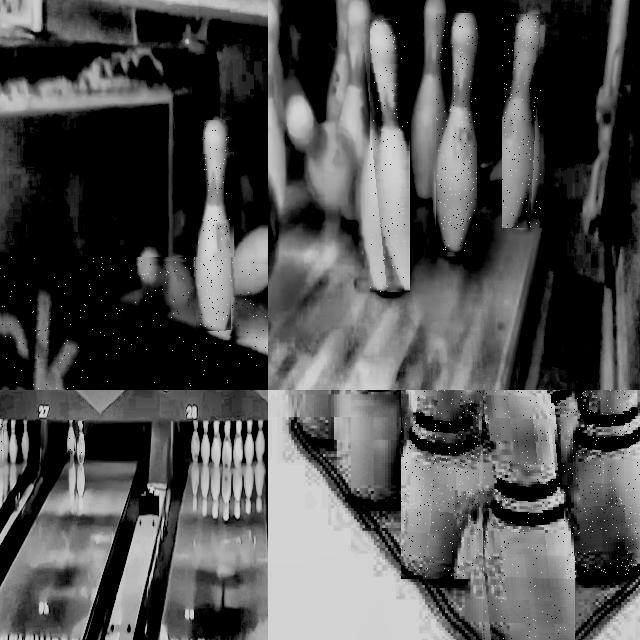bowling-pins: (484, 390, 572, 640), (401, 390, 482, 578), (564, 390, 640, 575), (371, 20, 408, 292), (334, 390, 419, 505), (437, 14, 477, 253), (503, 15, 541, 228), (410, 0, 446, 199), (198, 120, 231, 331), (340, 0, 371, 222), (268, 0, 286, 211), (547, 390, 581, 487), (326, 0, 350, 120), (244, 420, 255, 464), (233, 420, 243, 468), (222, 420, 232, 465), (211, 421, 221, 466), (255, 420, 265, 461), (191, 421, 201, 461), (201, 421, 210, 465), (22, 421, 31, 460), (10, 420, 17, 462), (3, 420, 9, 459), (69, 421, 75, 457), (79, 422, 84, 461), (0, 420, 3, 464)
sweep board: (0, 258, 268, 390)
